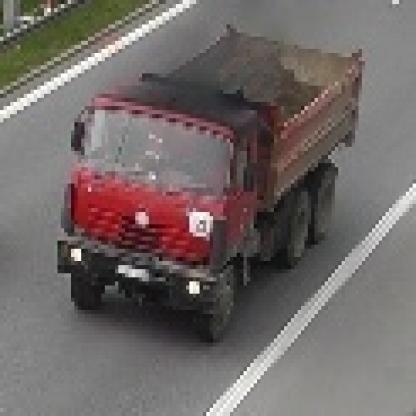truck: (55, 26, 363, 332)
